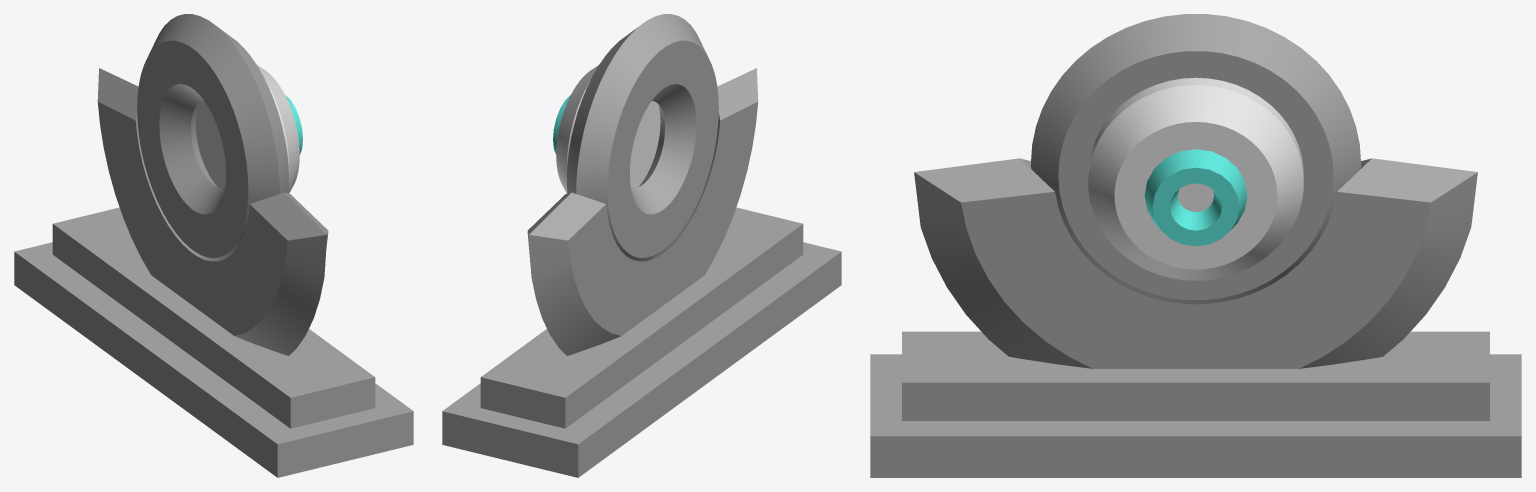
File: SideElements.fbx
The picture shows the model from 3 angles, left to right: view 1: azimuth 30°, elevation 25°; view 2: azimuth 150°, elevation 25°; view 3: azimuth 270°, elevation 25°; orthographic projection. The views are drawn at different scales.
Parts seen in each view (by area): view 1: Base, Emitter; view 2: Base, Emitter; view 3: Base, Emitter.
Boxes of the visible parts, x1,y1,x2,y2 form: Base: (14,68,413,477); Emitter: (137,14,302,261); Base: (442,68,841,477); Emitter: (553,14,718,261); Base: (870,158,1521,477); Emitter: (1031,14,1360,304).
Size of the model in its own units: 789 by 1848 by 2582.
